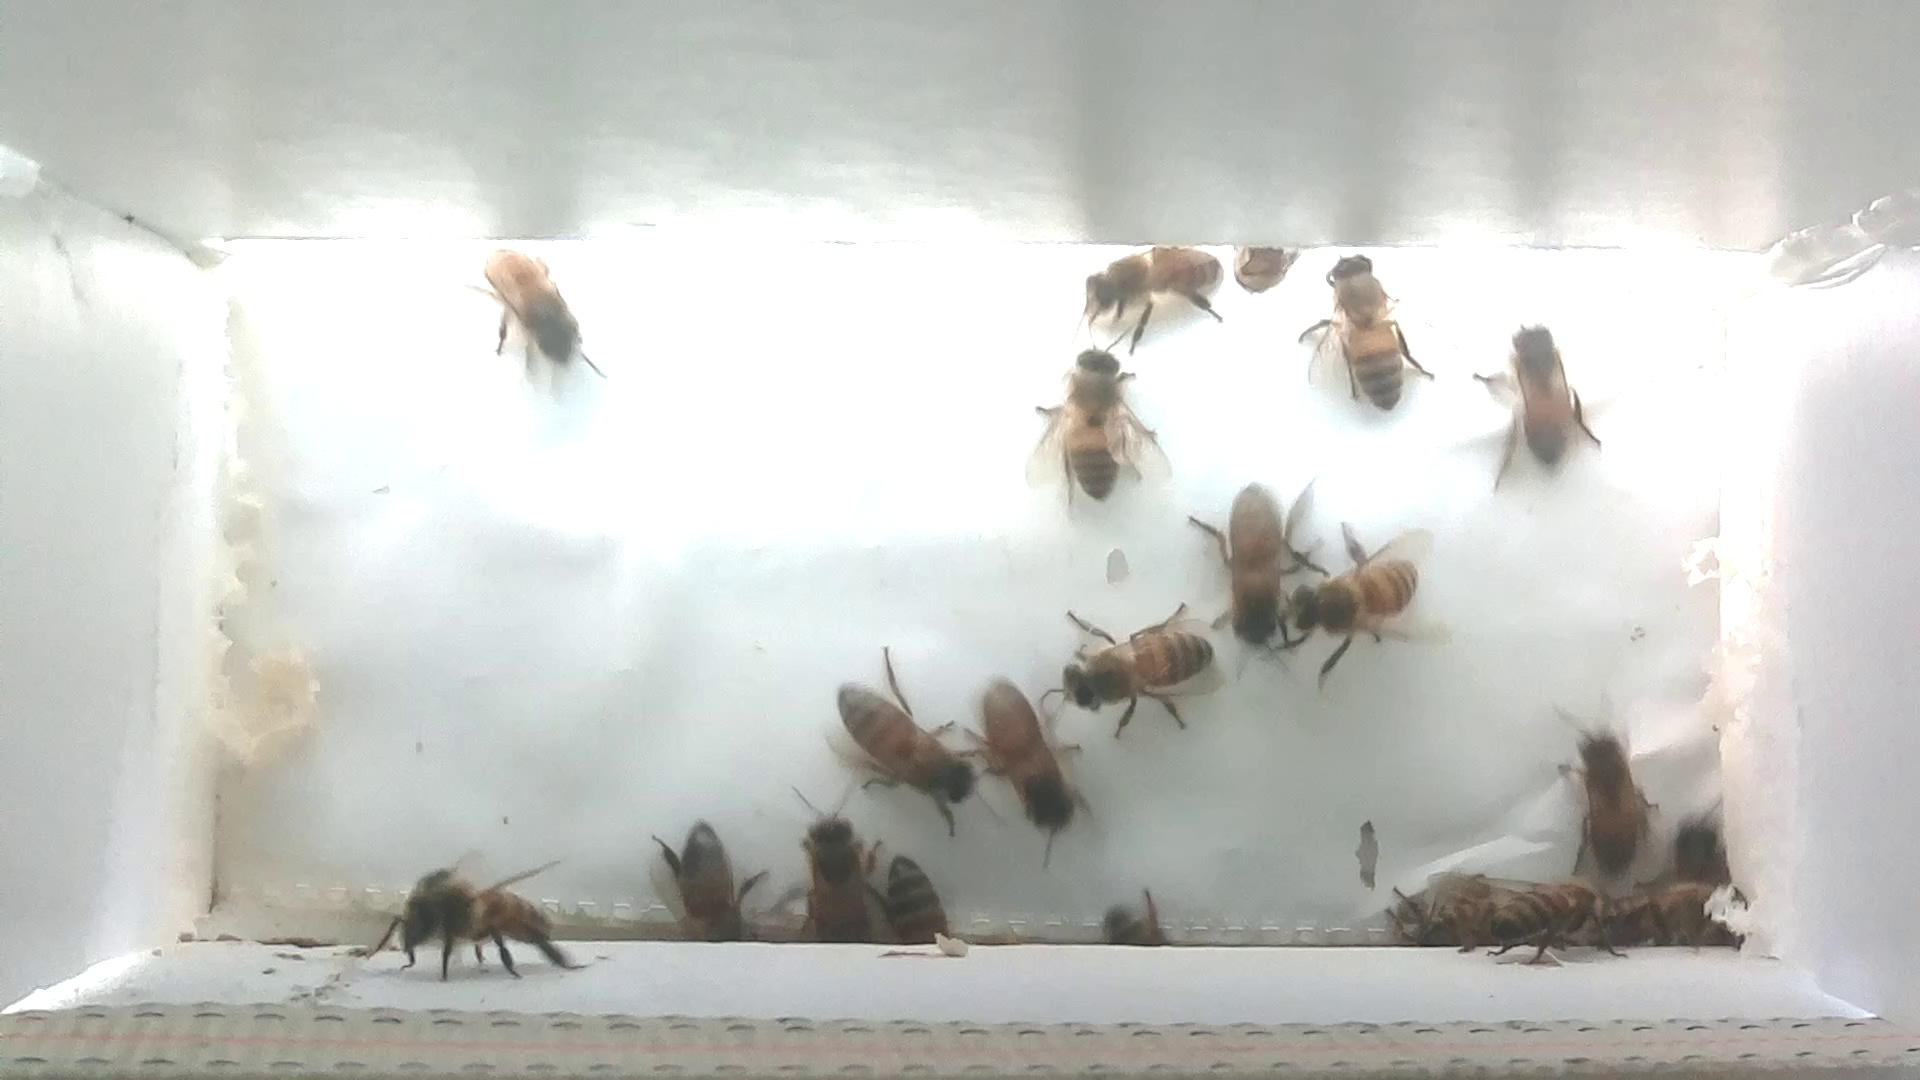bee: (1013, 318, 1166, 521), (816, 653, 985, 815), (455, 237, 622, 400), (1462, 309, 1613, 484), (960, 678, 1114, 841), (1044, 600, 1229, 733), (382, 858, 579, 982), (1300, 245, 1443, 415), (1184, 471, 1311, 661), (1294, 527, 1428, 684), (1549, 702, 1663, 887), (785, 793, 890, 955), (1484, 861, 1629, 978), (1054, 236, 1230, 330), (646, 820, 766, 953), (876, 851, 968, 969), (1615, 874, 1738, 960), (1088, 881, 1191, 965), (1215, 225, 1305, 305)
